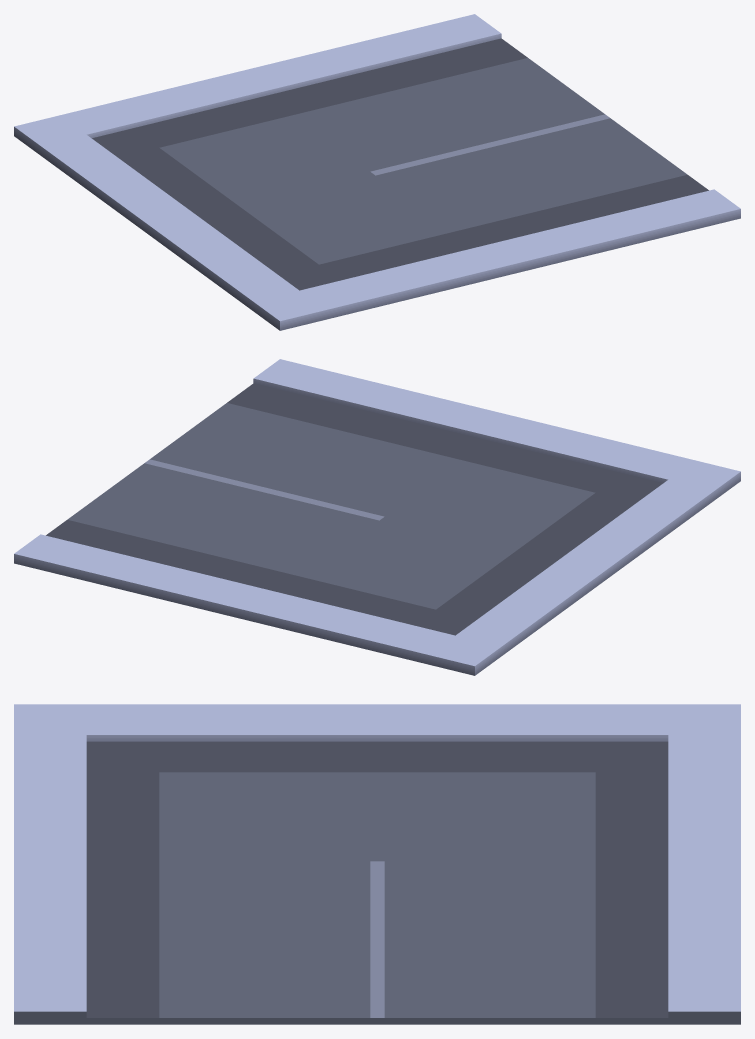
The model's file is roads.road_end.glb.
3 renders of one model, top to bottom at view 1: azimuth 30°, elevation 25°; view 2: azimuth 150°, elevation 25°; view 3: azimuth 270°, elevation 25°, orthographic. The views are drawn at different scales.
Parts seen in each view (by area): view 1: road-end; view 2: road-end; view 3: road-end.
Part boxes in pixels (bbox=[...]): road-end: bbox=[14, 14, 740, 330]; road-end: bbox=[14, 359, 740, 675]; road-end: bbox=[14, 704, 740, 1024].
Size of the model in its own units: 7.45 by 0.1491 by 7.45.
Materials: 1 (1 with a texture image).
